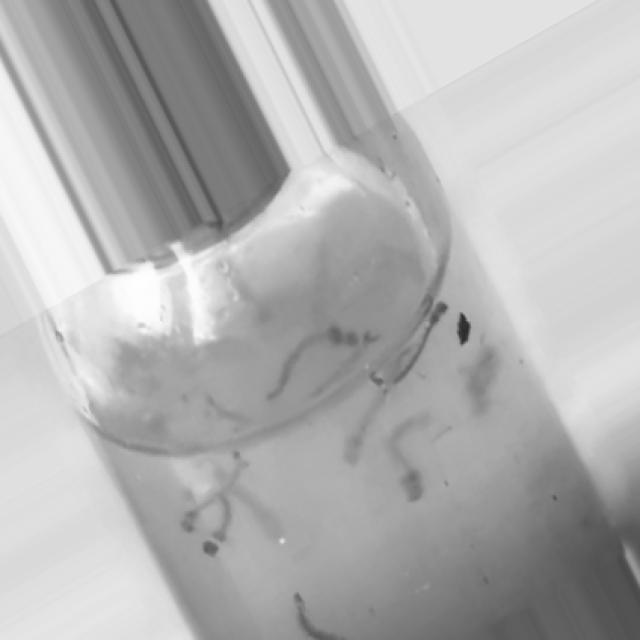larvas: (254, 305, 378, 420), (371, 301, 448, 389), (173, 454, 251, 536), (192, 500, 249, 572), (394, 409, 434, 498), (346, 397, 384, 464), (462, 341, 497, 404), (291, 589, 333, 640), (244, 484, 276, 546)
